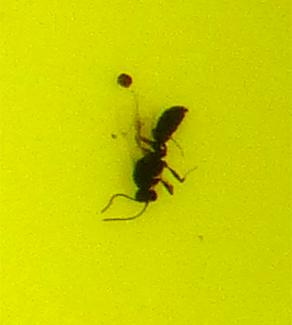Hymenoptera: (100, 100, 192, 225)
